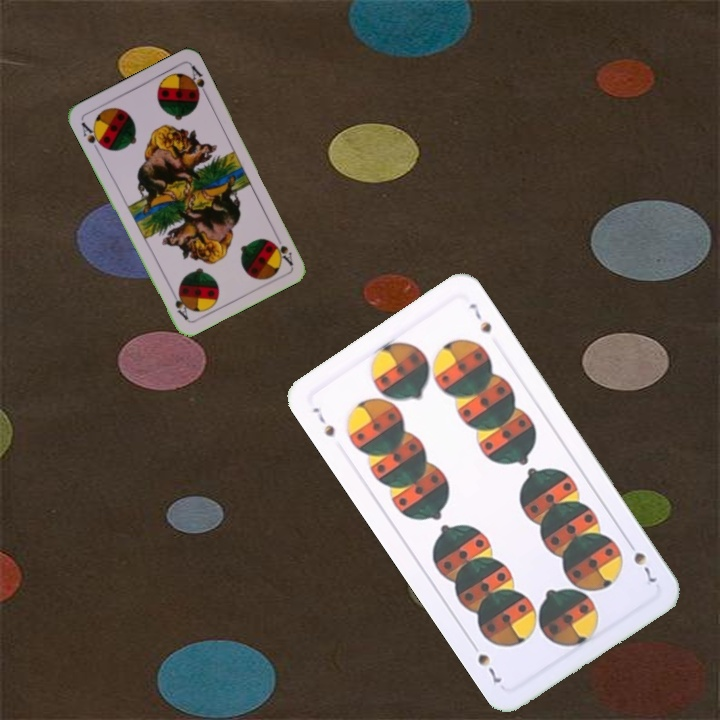S7: (622, 535, 659, 585), (308, 403, 338, 440)
SA: (269, 230, 296, 268), (77, 118, 107, 151)
